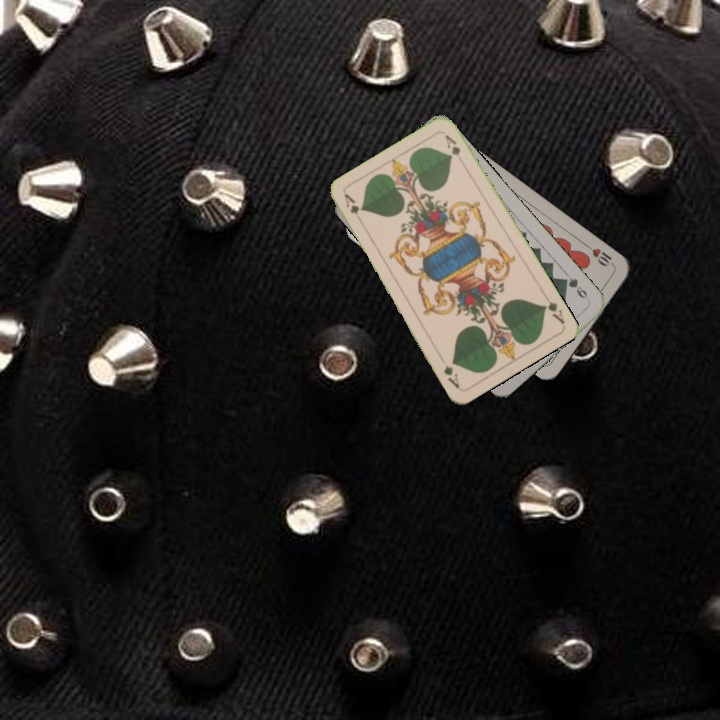G9: (558, 273, 592, 304)
GA: (539, 290, 567, 326), (340, 190, 366, 228)
H10: (582, 241, 618, 270)
